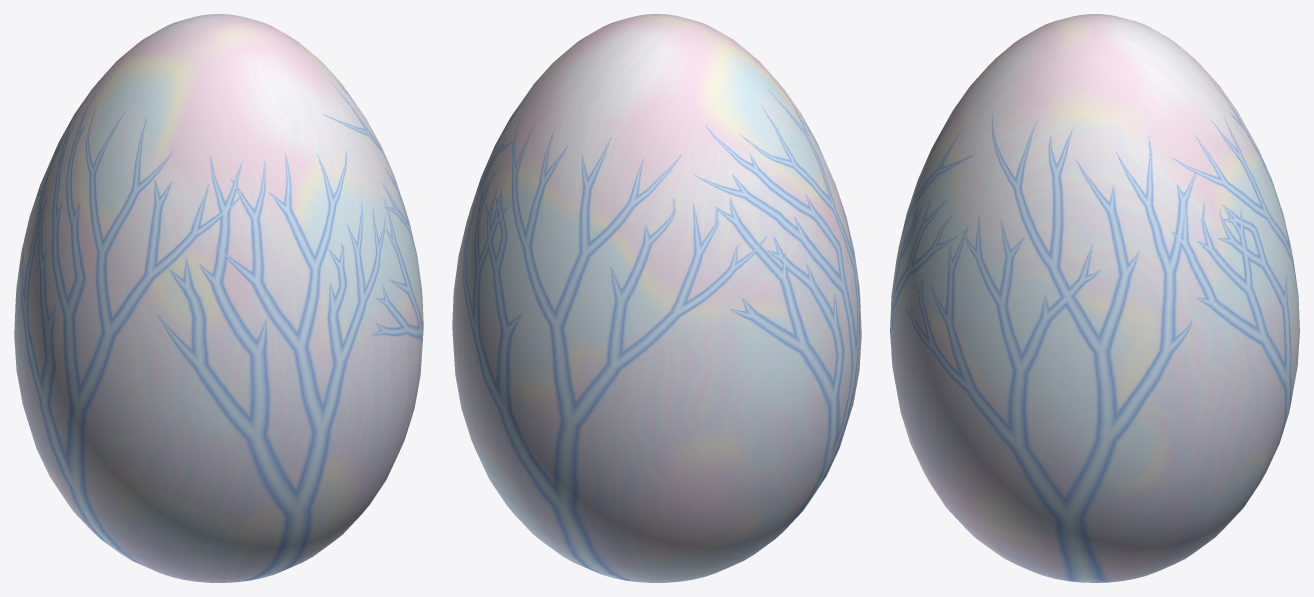
Rendered from moon_rabbit.fbx.
3 views of the same model, side by side, from view 1: azimuth 30°, elevation 25°; view 2: azimuth 150°, elevation 25°; view 3: azimuth 270°, elevation 25° (orthographic).
Parts seen in each view (by area): view 1: moon_rabbit_Shell; view 2: moon_rabbit_Shell; view 3: moon_rabbit_Shell.
Boxes of the visible parts, bbox=[...] form: moon_rabbit_Shell: bbox=[14, 14, 423, 582]; moon_rabbit_Shell: bbox=[452, 14, 861, 582]; moon_rabbit_Shell: bbox=[890, 14, 1299, 582].
Size of the model in its own units: 2.05 by 3 by 2.05.
Materials: 1 (1 with a texture image).
